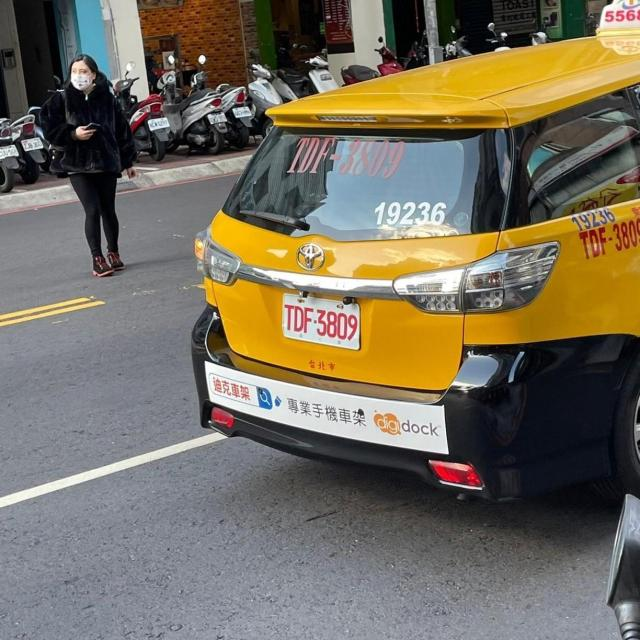W: (274, 289, 366, 350), (19, 131, 57, 154), (231, 102, 261, 120), (145, 112, 173, 131), (204, 107, 228, 127), (0, 139, 20, 161)
